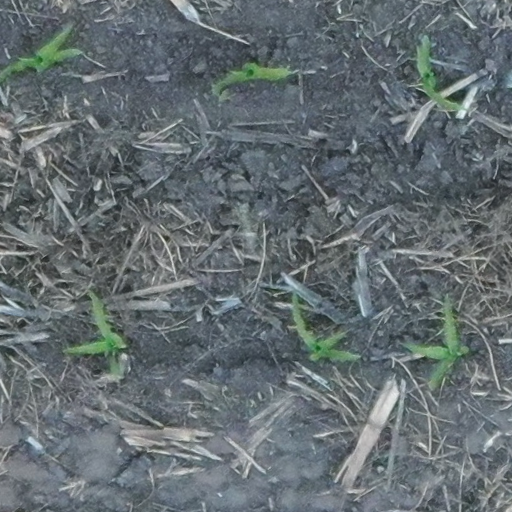planta: (401, 293, 466, 389), (62, 285, 124, 377), (291, 289, 365, 360), (417, 38, 473, 111), (215, 63, 299, 97)
